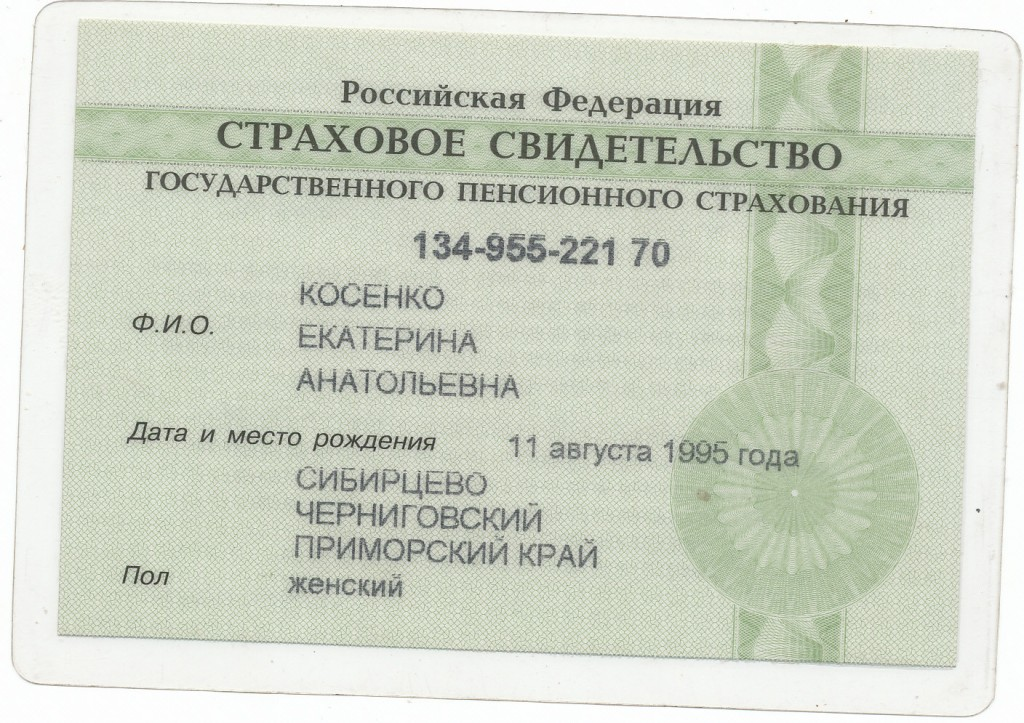text: (289, 462, 609, 576), (493, 423, 816, 478), (403, 224, 701, 276), (284, 362, 521, 406), (284, 314, 488, 361), (295, 281, 443, 314), (272, 569, 418, 602)
